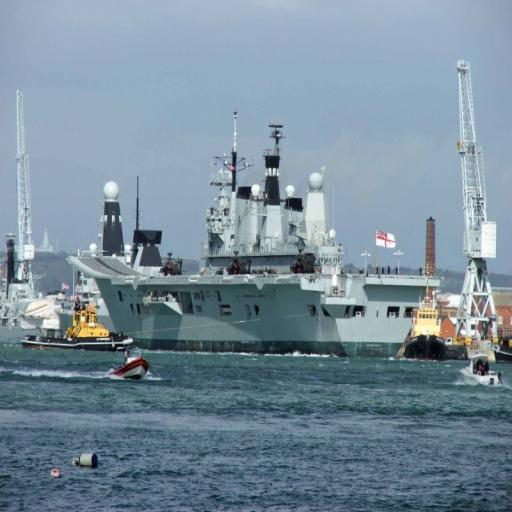Portanaves: (66, 108, 446, 364)
